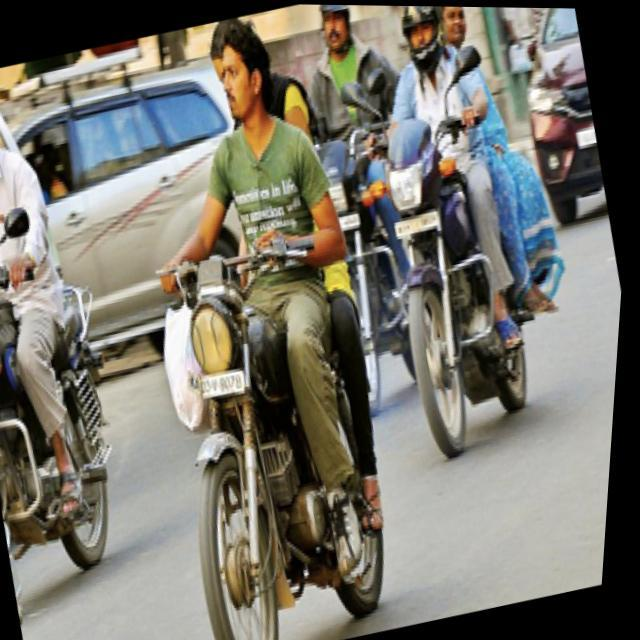Nonhelmet: (206, 16, 274, 121)
